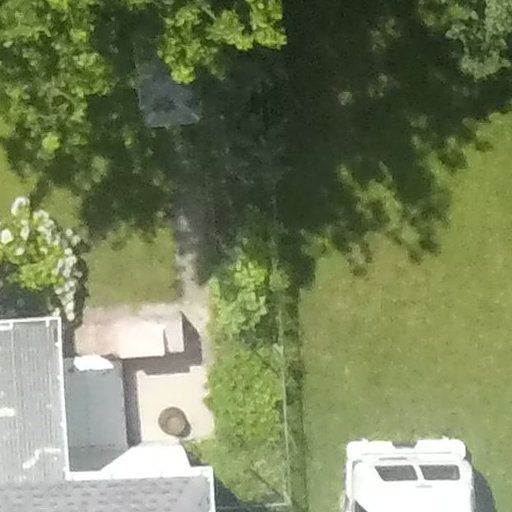container: (156, 403, 192, 439)
